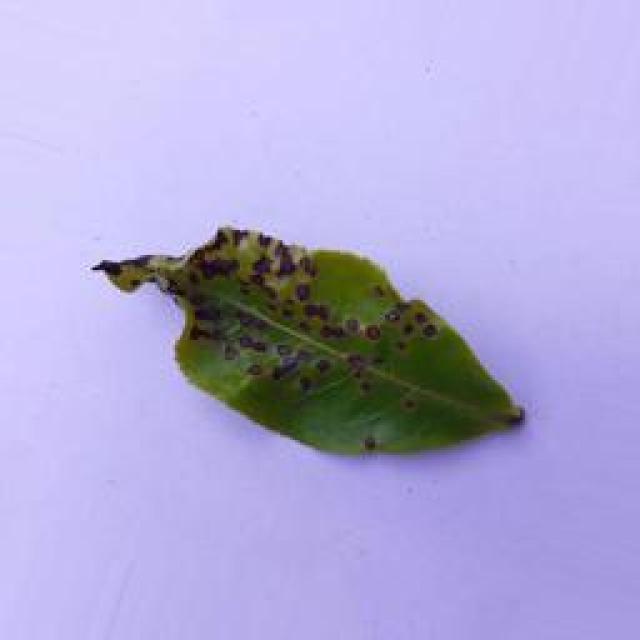Helopeltis: (91, 220, 536, 455)
